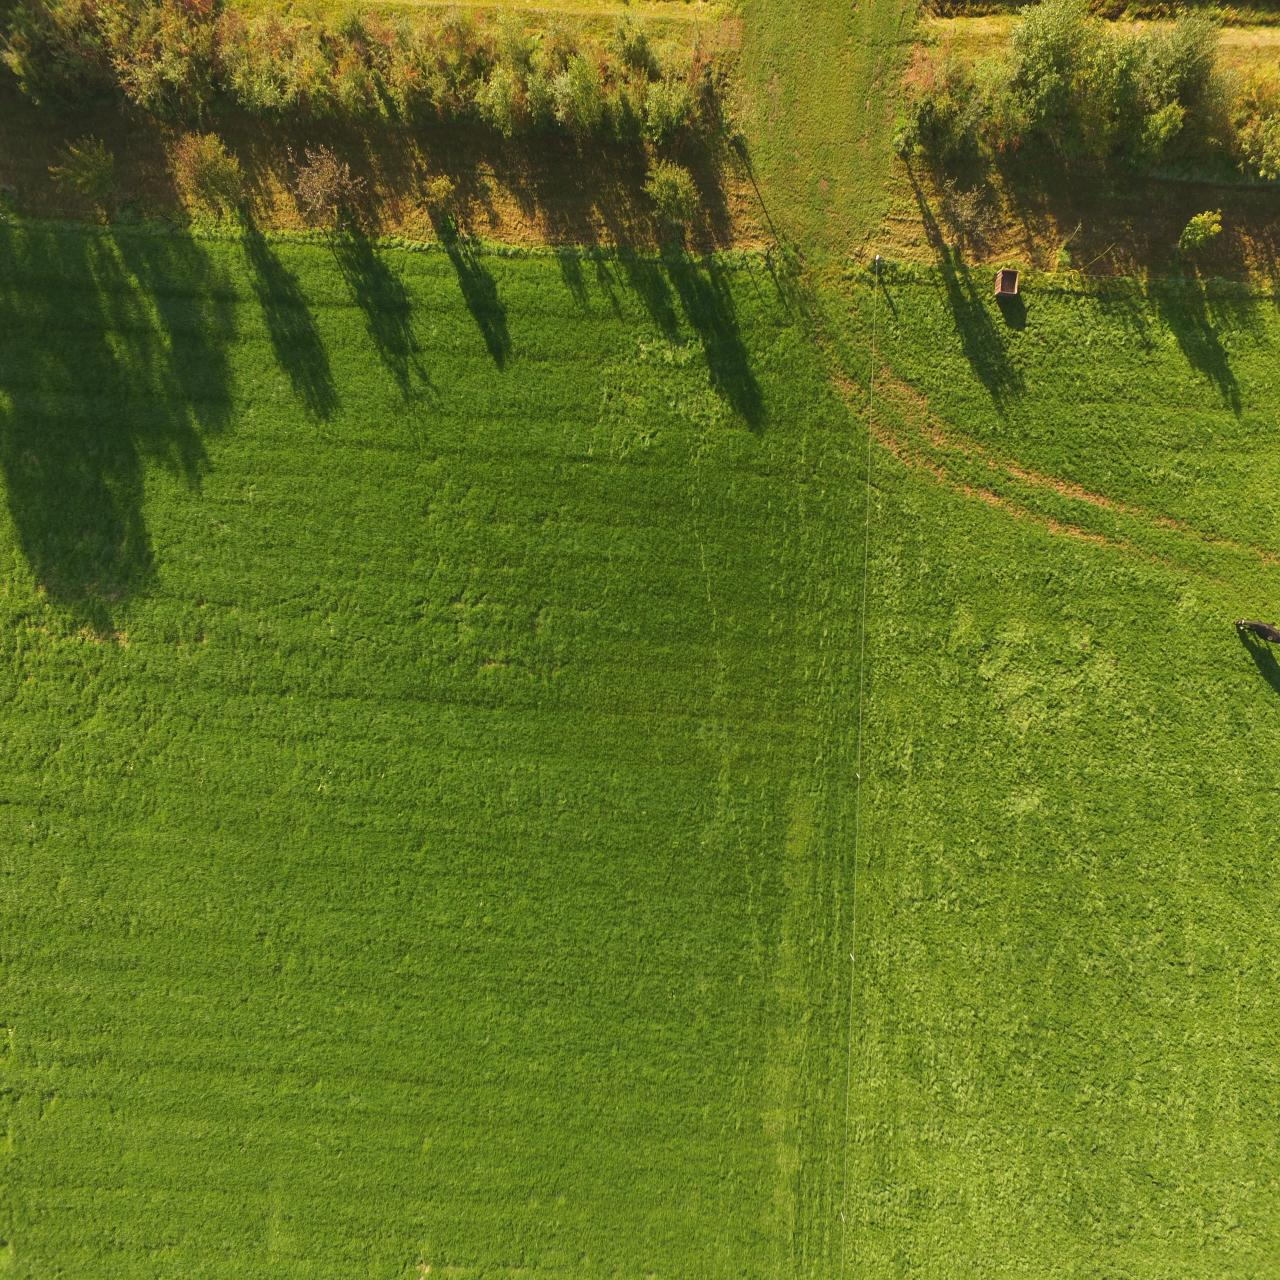cow: (1230, 607, 1280, 659)
